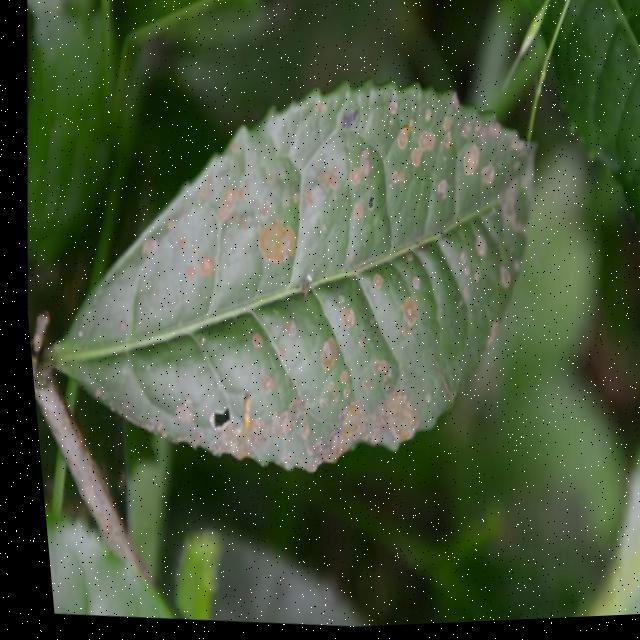Tea algae leaf spot: (83, 40, 571, 513)
